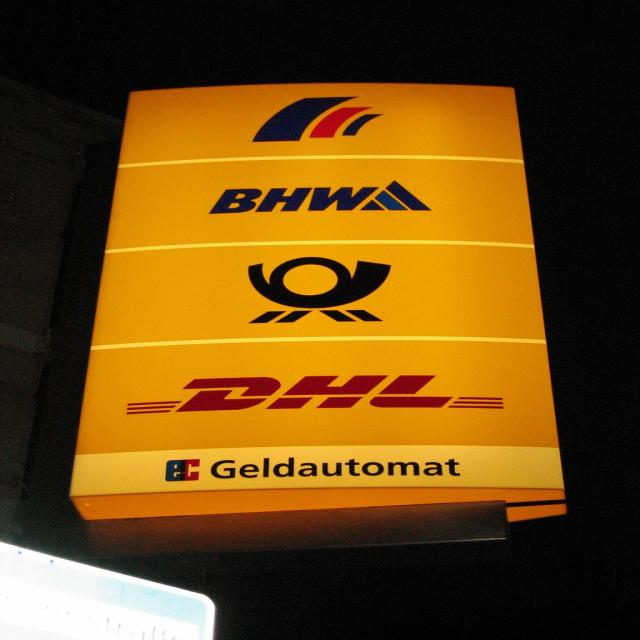dhl: (108, 362, 529, 421)
